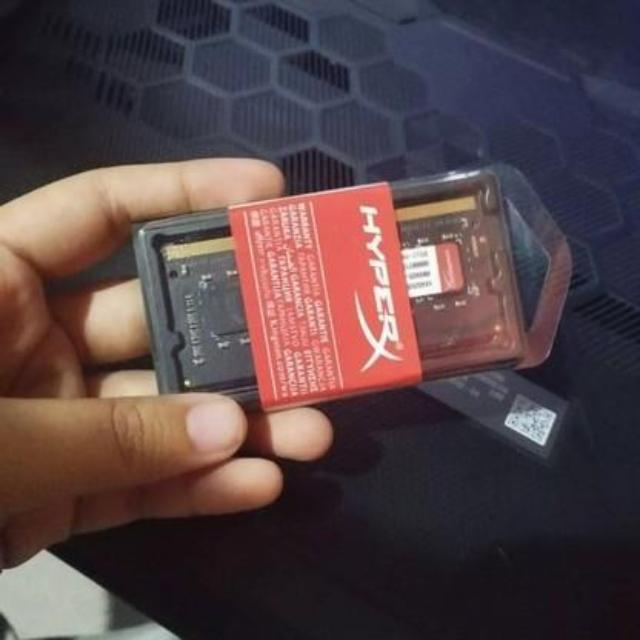RAM: (140, 186, 508, 397)
